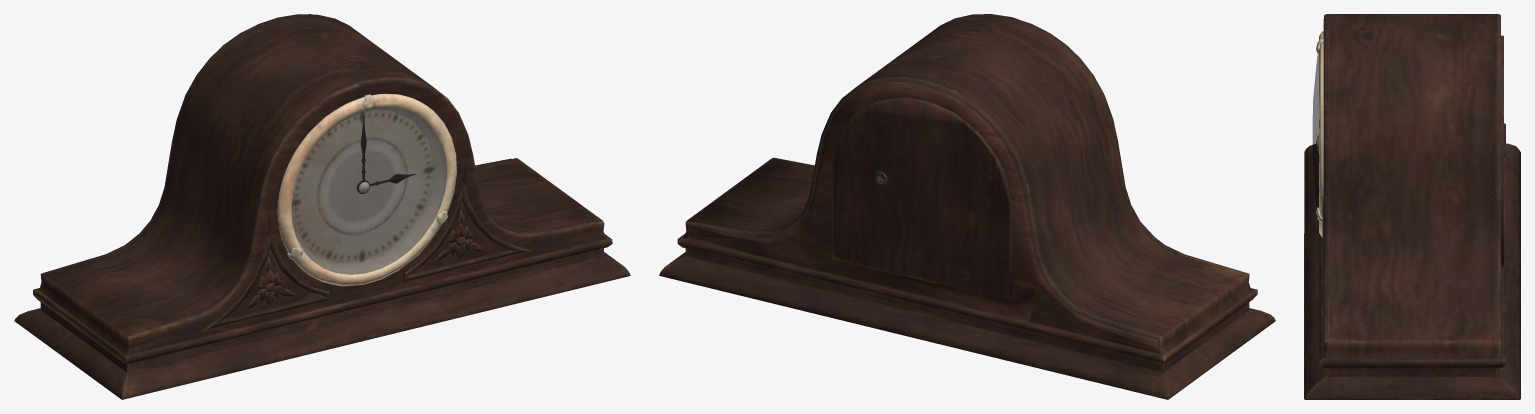
Rendered from ph_mantel_clock_01.glb.
3 renders of one model, left to right at view 1: azimuth 30°, elevation 25°; view 2: azimuth 150°, elevation 25°; view 3: azimuth 270°, elevation 25°, orthographic.
Parts seen in each view (by area): view 1: mantel_clock_01; view 2: mantel_clock_01; view 3: mantel_clock_01.
Boxes of the visible parts, bbox=[...] form: mantel_clock_01: bbox=[14, 14, 630, 399]; mantel_clock_01: bbox=[659, 14, 1275, 399]; mantel_clock_01: bbox=[1304, 14, 1520, 399].
Size of the model in its own units: 0.3419 by 0.1605 by 0.1262.
2 materials, 2 textured.
